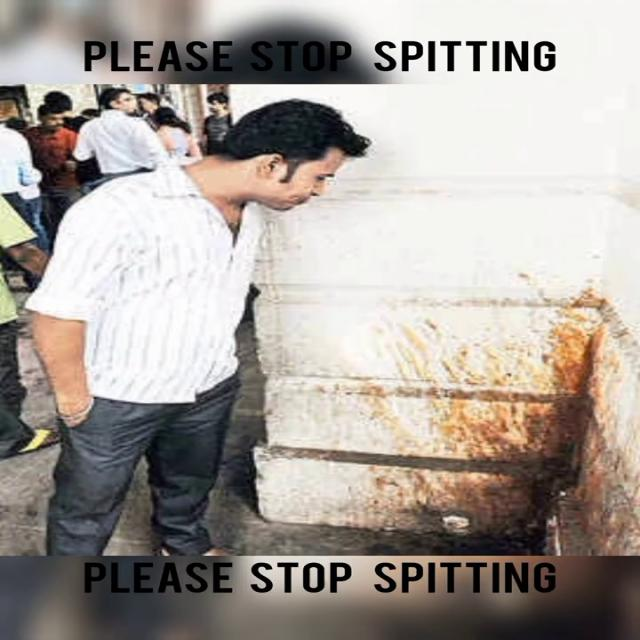spit: (227, 100, 640, 562)
